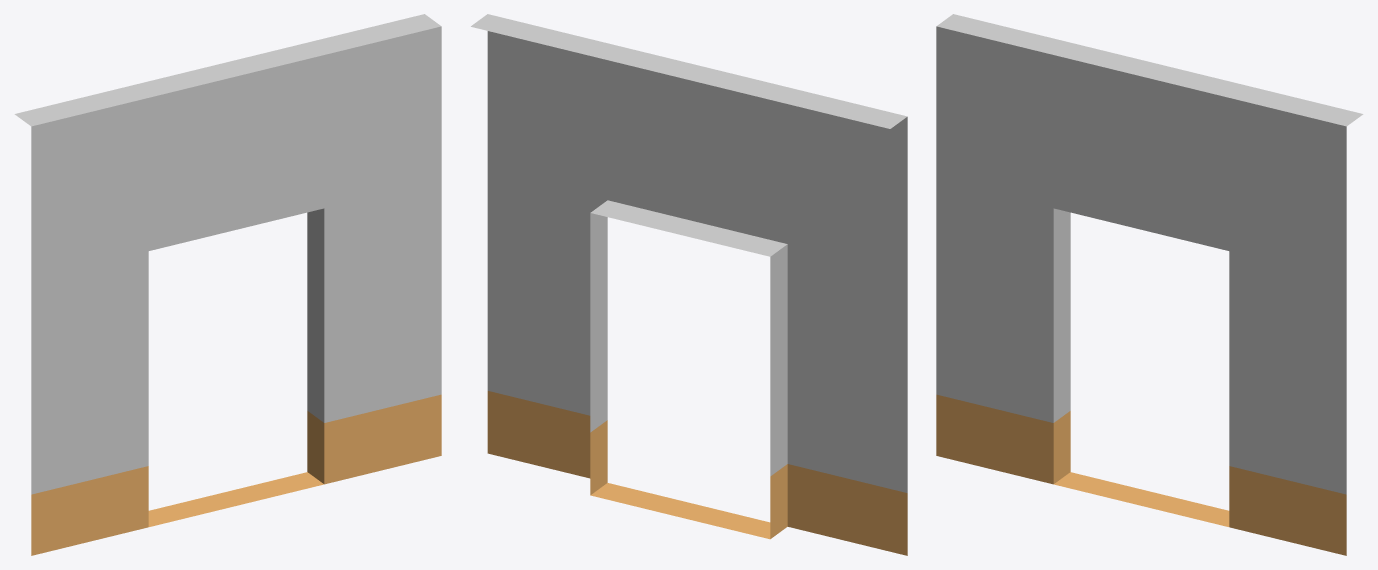
File: M_WallDoor150SWhite80-1.fbx
The picture shows the model from 3 angles, left to right: view 1: azimuth 30°, elevation 25°; view 2: azimuth 150°, elevation 25°; view 3: azimuth 330°, elevation 25°; orthographic projection. The views are drawn at different scales.
Visible parts, largest first — view 1: M_WallDoor150SWhite80-1; view 2: M_WallDoor150SWhite80-1; view 3: M_WallDoor150SWhite80-1.
Part boxes in pixels (x1,y1,x2,y2): M_WallDoor150SWhite80-1: (14, 14, 441, 555); M_WallDoor150SWhite80-1: (471, 14, 907, 555); M_WallDoor150SWhite80-1: (936, 14, 1363, 555).
Bounding box in the file's own units: 350 × 25 × 350.
